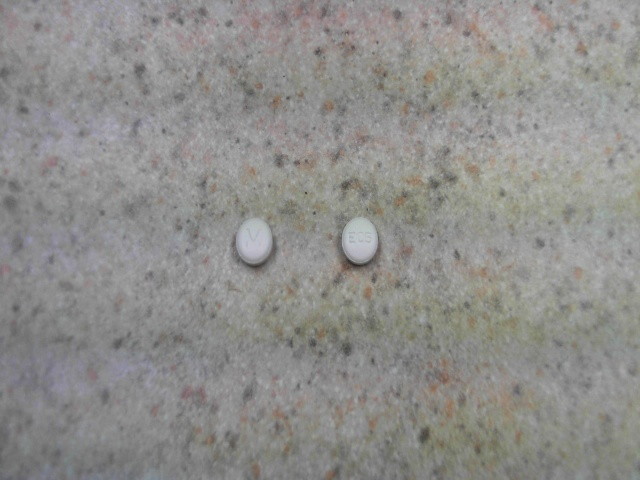5: (364, 230, 374, 244)
C: (356, 230, 364, 244)
E: (347, 230, 356, 243)
M: (240, 227, 266, 253)
